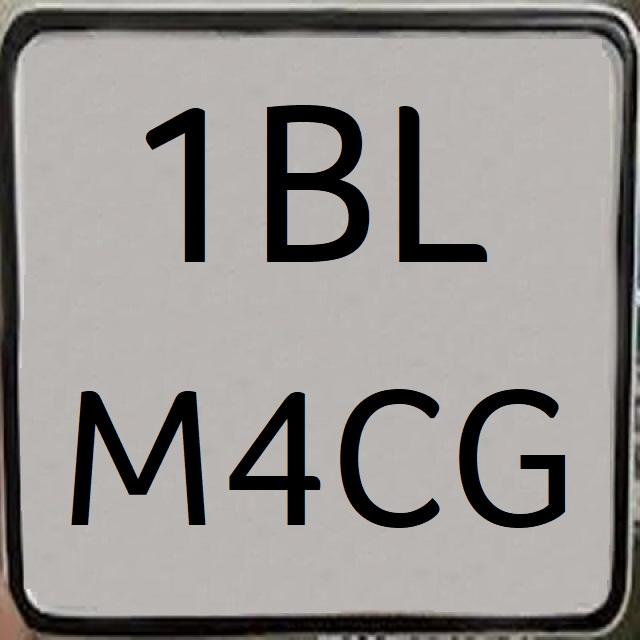4: (227, 377, 320, 535)
B: (259, 84, 372, 277)
C: (338, 369, 446, 530)
G: (452, 376, 572, 538)
L: (392, 90, 492, 276)
M: (68, 377, 212, 525)
